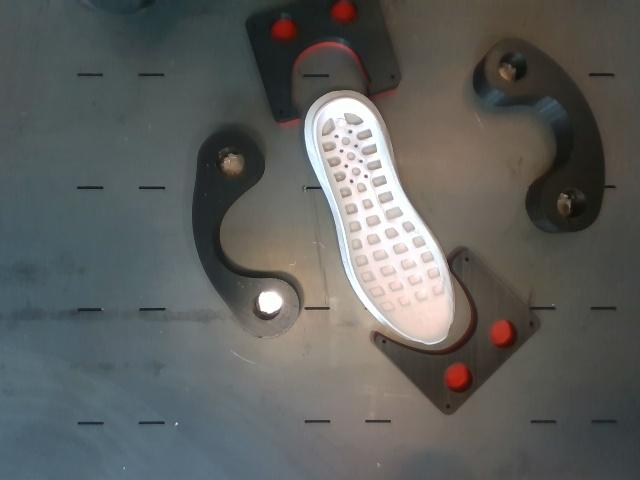shoes: (316, 99, 453, 343)
